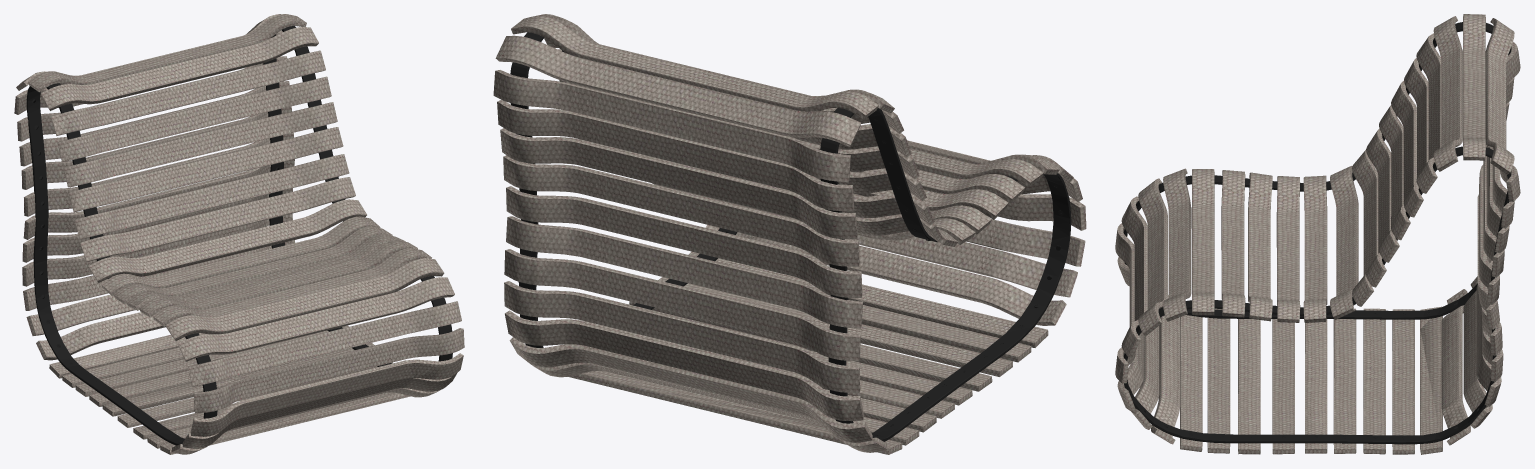
The picture shows the model from 3 angles, left to right: view 1: azimuth 30°, elevation 25°; view 2: azimuth 150°, elevation 25°; view 3: azimuth 270°, elevation 25°; orthographic projection. The views are drawn at different scales.
Parts seen in each view (by area): view 1: ACABAMENTO, ESTRUTUR01; view 2: ACABAMENTO, ESTRUTUR01; view 3: ACABAMENTO, ESTRUTUR01.
Boxes of the visible parts, left/top/right/bottom form: ACABAMENTO: left=14, top=14, right=464, bottom=454; ESTRUTUR01: left=26, top=25, right=452, bottom=445; ACABAMENTO: left=493, top=14, right=1086, bottom=454; ESTRUTUR01: left=510, top=32, right=1071, bottom=441; ACABAMENTO: left=1115, top=14, right=1520, bottom=454; ESTRUTUR01: left=1123, top=22, right=1510, bottom=444.
Size of the model in its own units: 0.8115 by 0.8105 by 0.9737.
